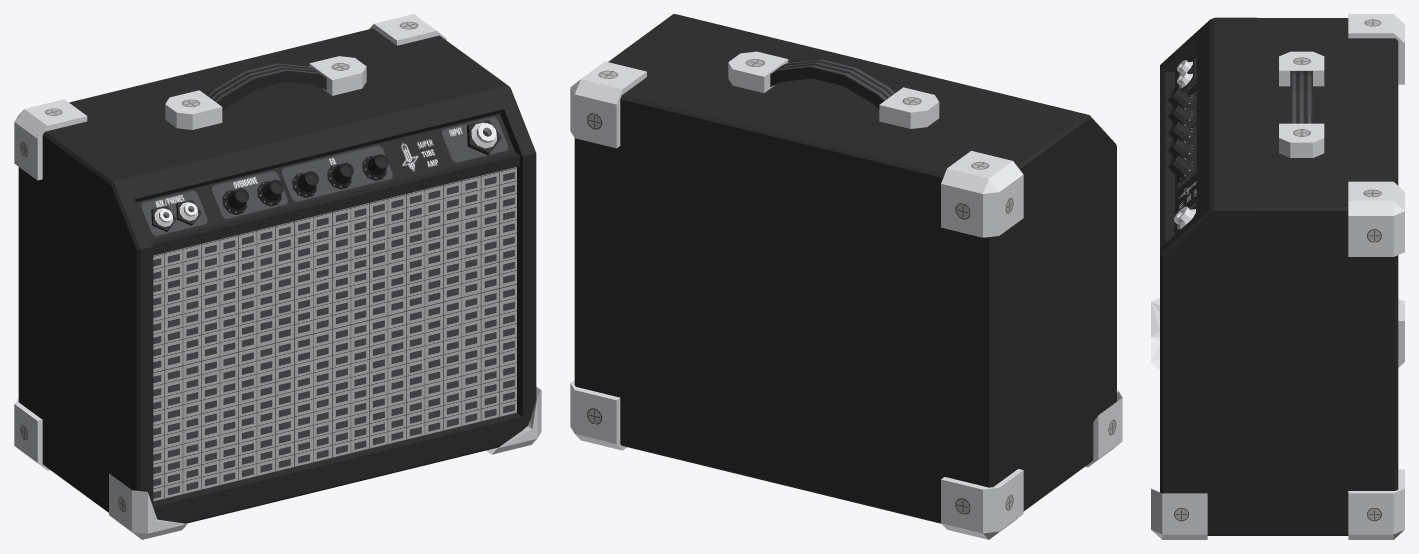
The model's file is guitar-amp.glb.
3 renders of one model, left to right at view 1: azimuth 30°, elevation 25°; view 2: azimuth 150°, elevation 25°; view 3: azimuth 270°, elevation 25°, orthographic. The views are drawn at different scales.
Parts seen in each view (by area): view 1: node-0; view 2: node-0; view 3: node-0.
Part boxes in pixels (x1,y1,x2,y2): node-0: (14, 14, 541, 539); node-0: (570, 14, 1122, 539); node-0: (1151, 14, 1404, 539).
Bounding box in the file's own units: 410 × 354 × 224.
1 material, 1 textured.
